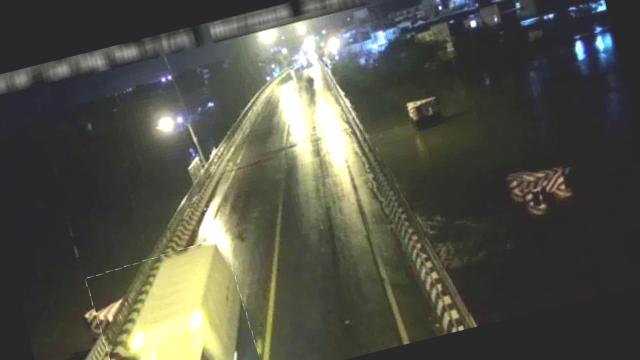Truck: (86, 237, 264, 360)
